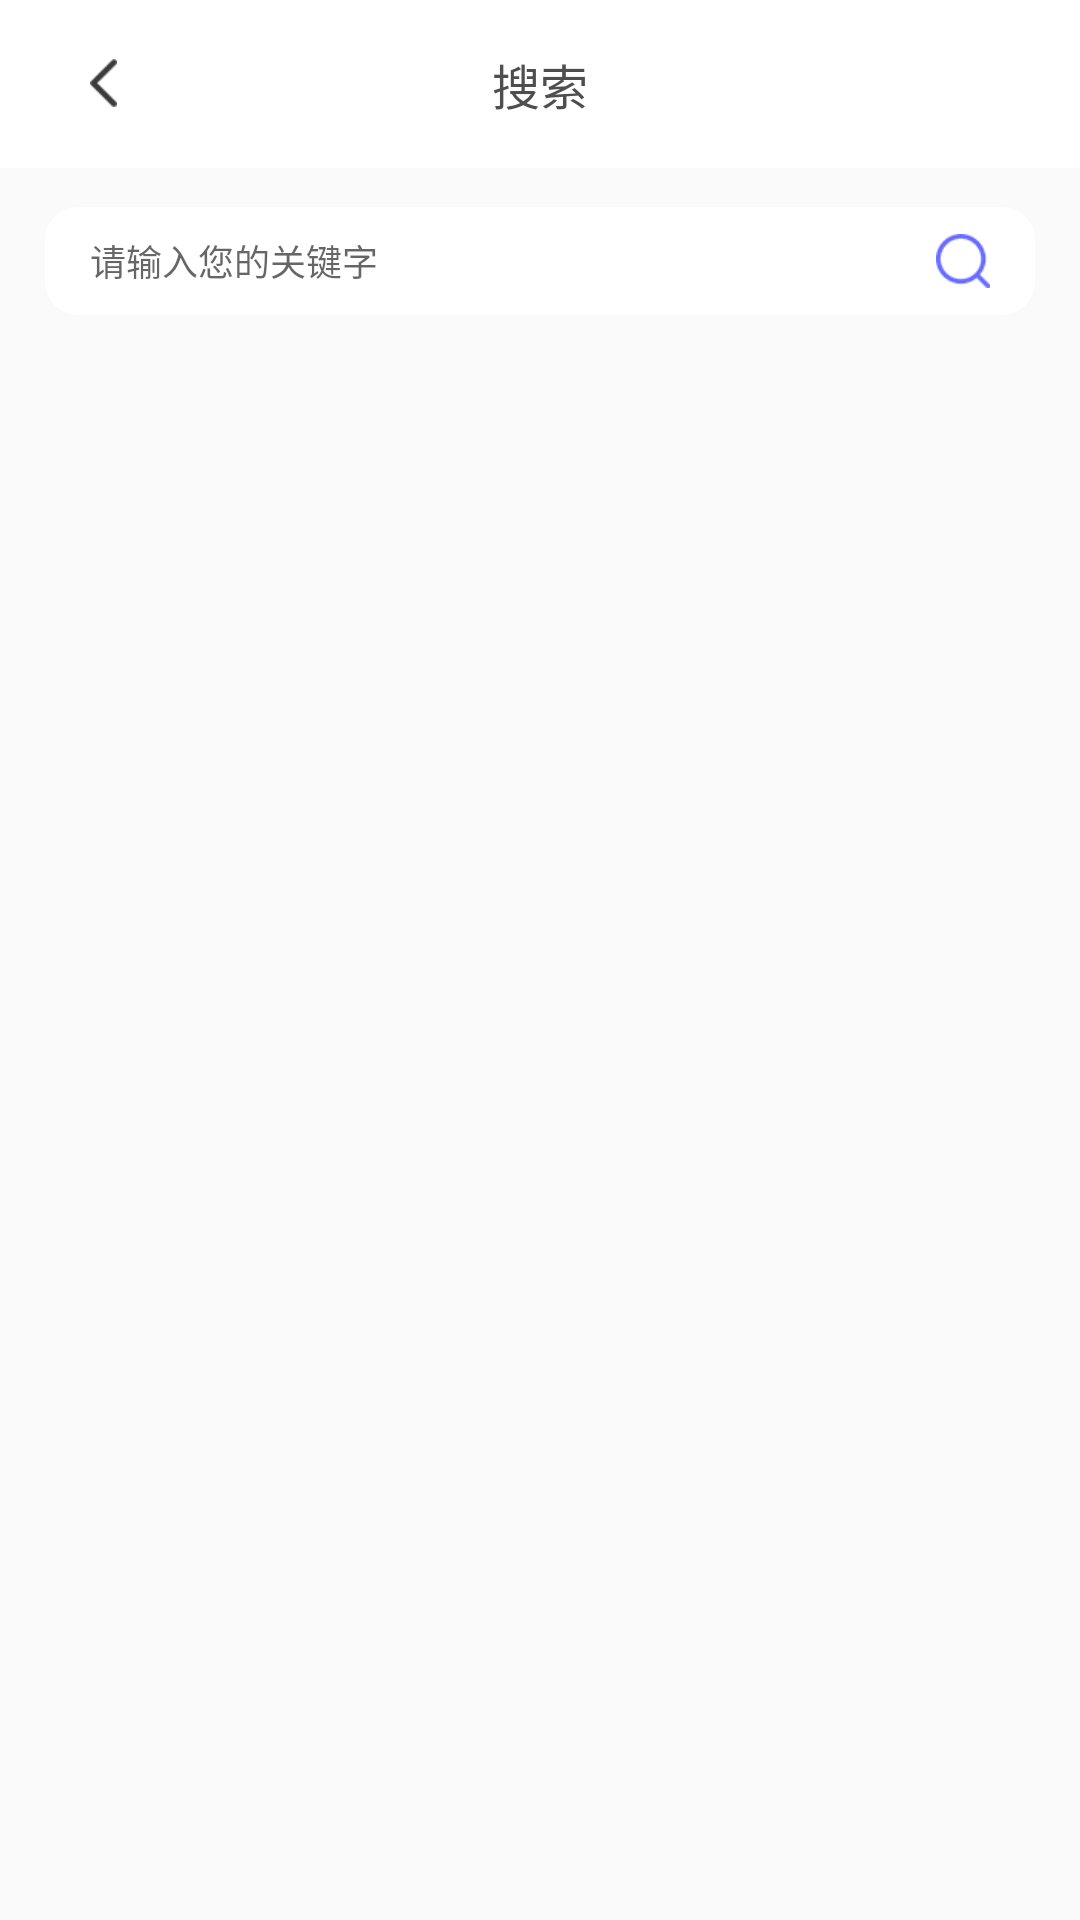

Where to tap for icons on this 1080 × 1920 app screen, as [x,y]:
back: [103,83]
search: [963,261]
